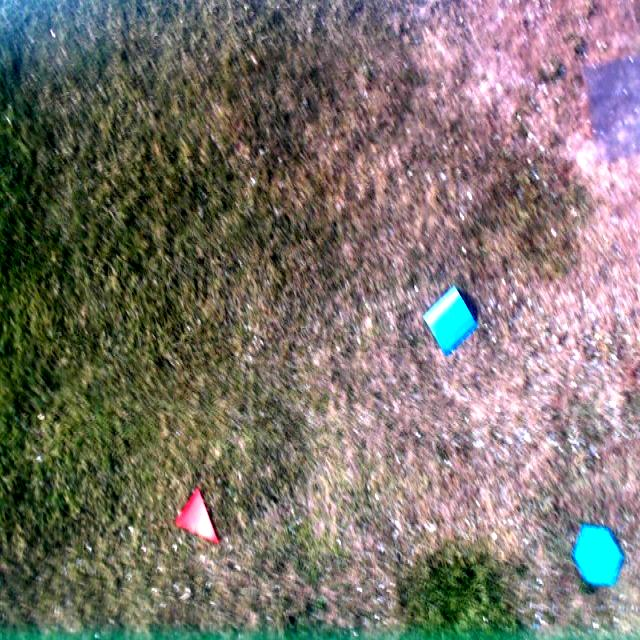blue_hexagon: (573, 520, 625, 589)
blue_square: (422, 286, 480, 359)
red_triangle: (173, 486, 223, 548)
